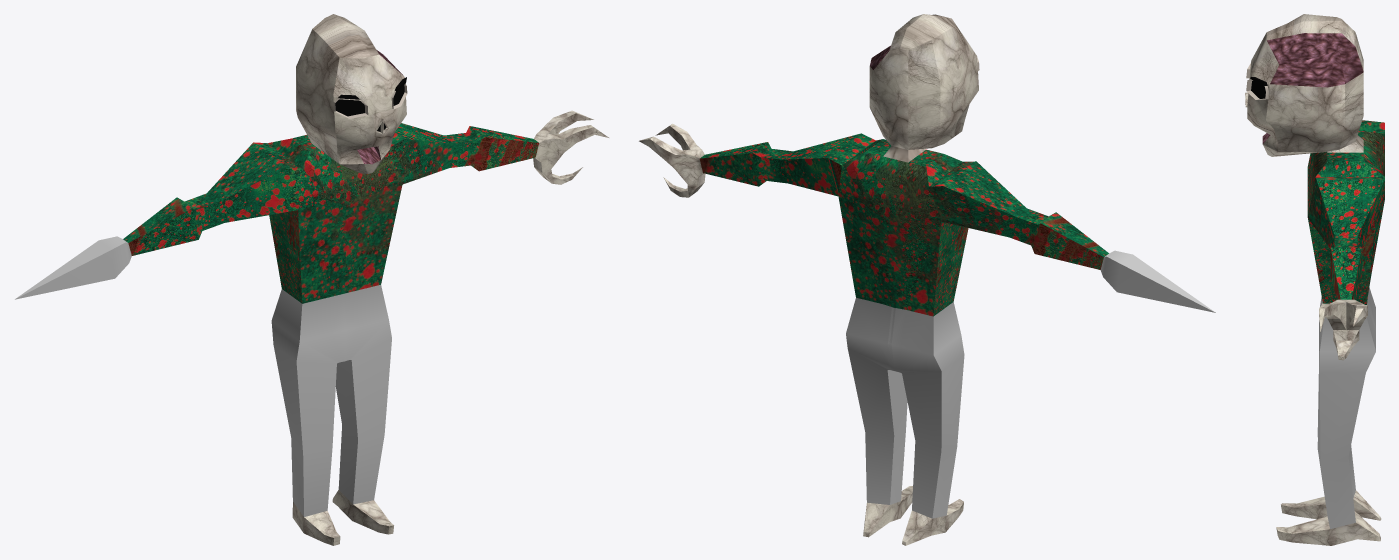
File: NewZombie1-1.fbx
3 renders of one model, left to right at view 1: azimuth 30°, elevation 25°; view 2: azimuth 150°, elevation 25°; view 3: azimuth 270°, elevation 25°, orthographic.
Parts seen in each view (by area): view 1: pCube3; view 2: pCube3; view 3: pCube3.
Boxes of the visible parts, box(x1,y1,x2,y2) form: pCube3: box(15, 14, 608, 545); pCube3: box(639, 14, 1215, 545); pCube3: box(1245, 14, 1384, 545).
Size of the model in its own units: 168 by 139 by 34.73.
